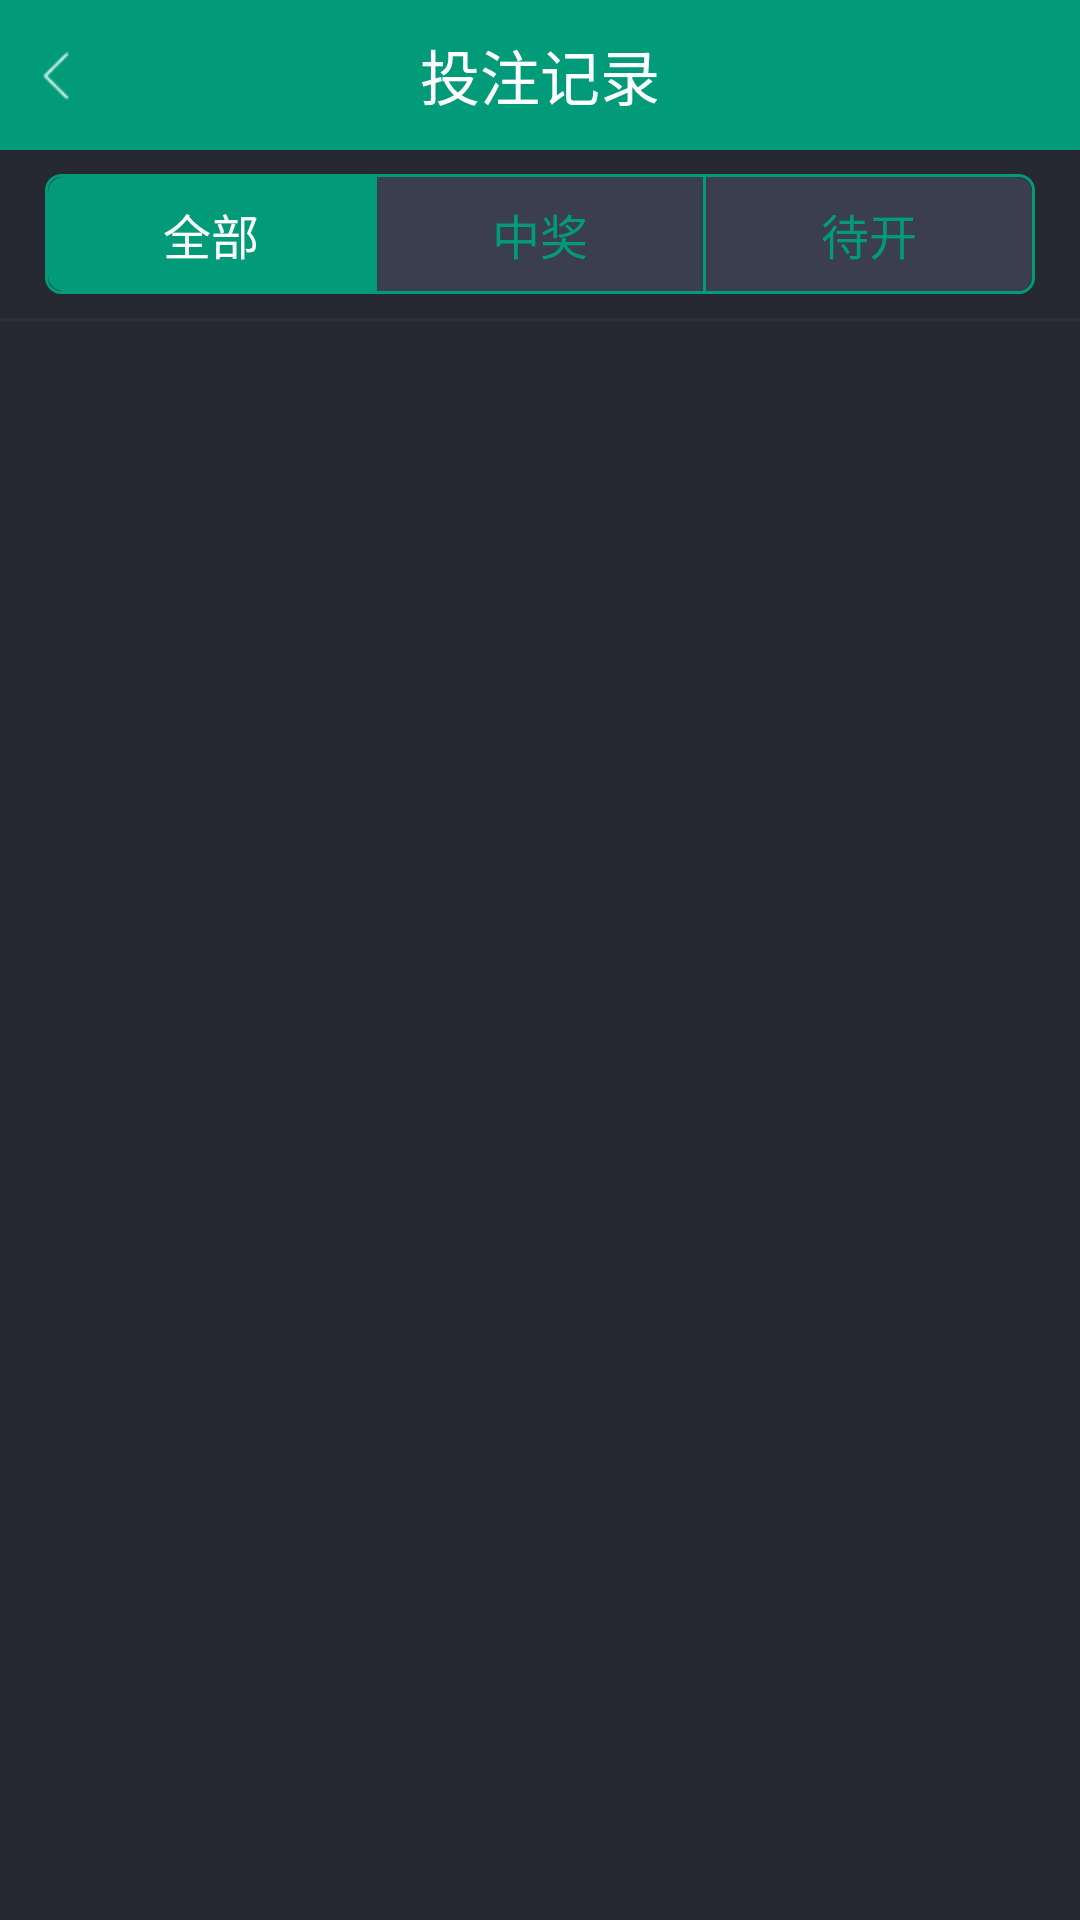

Screen size 1080w x 1920h. Icon name, then its center in pixels as (x=x, y=y):
back: (x=56, y=76)
